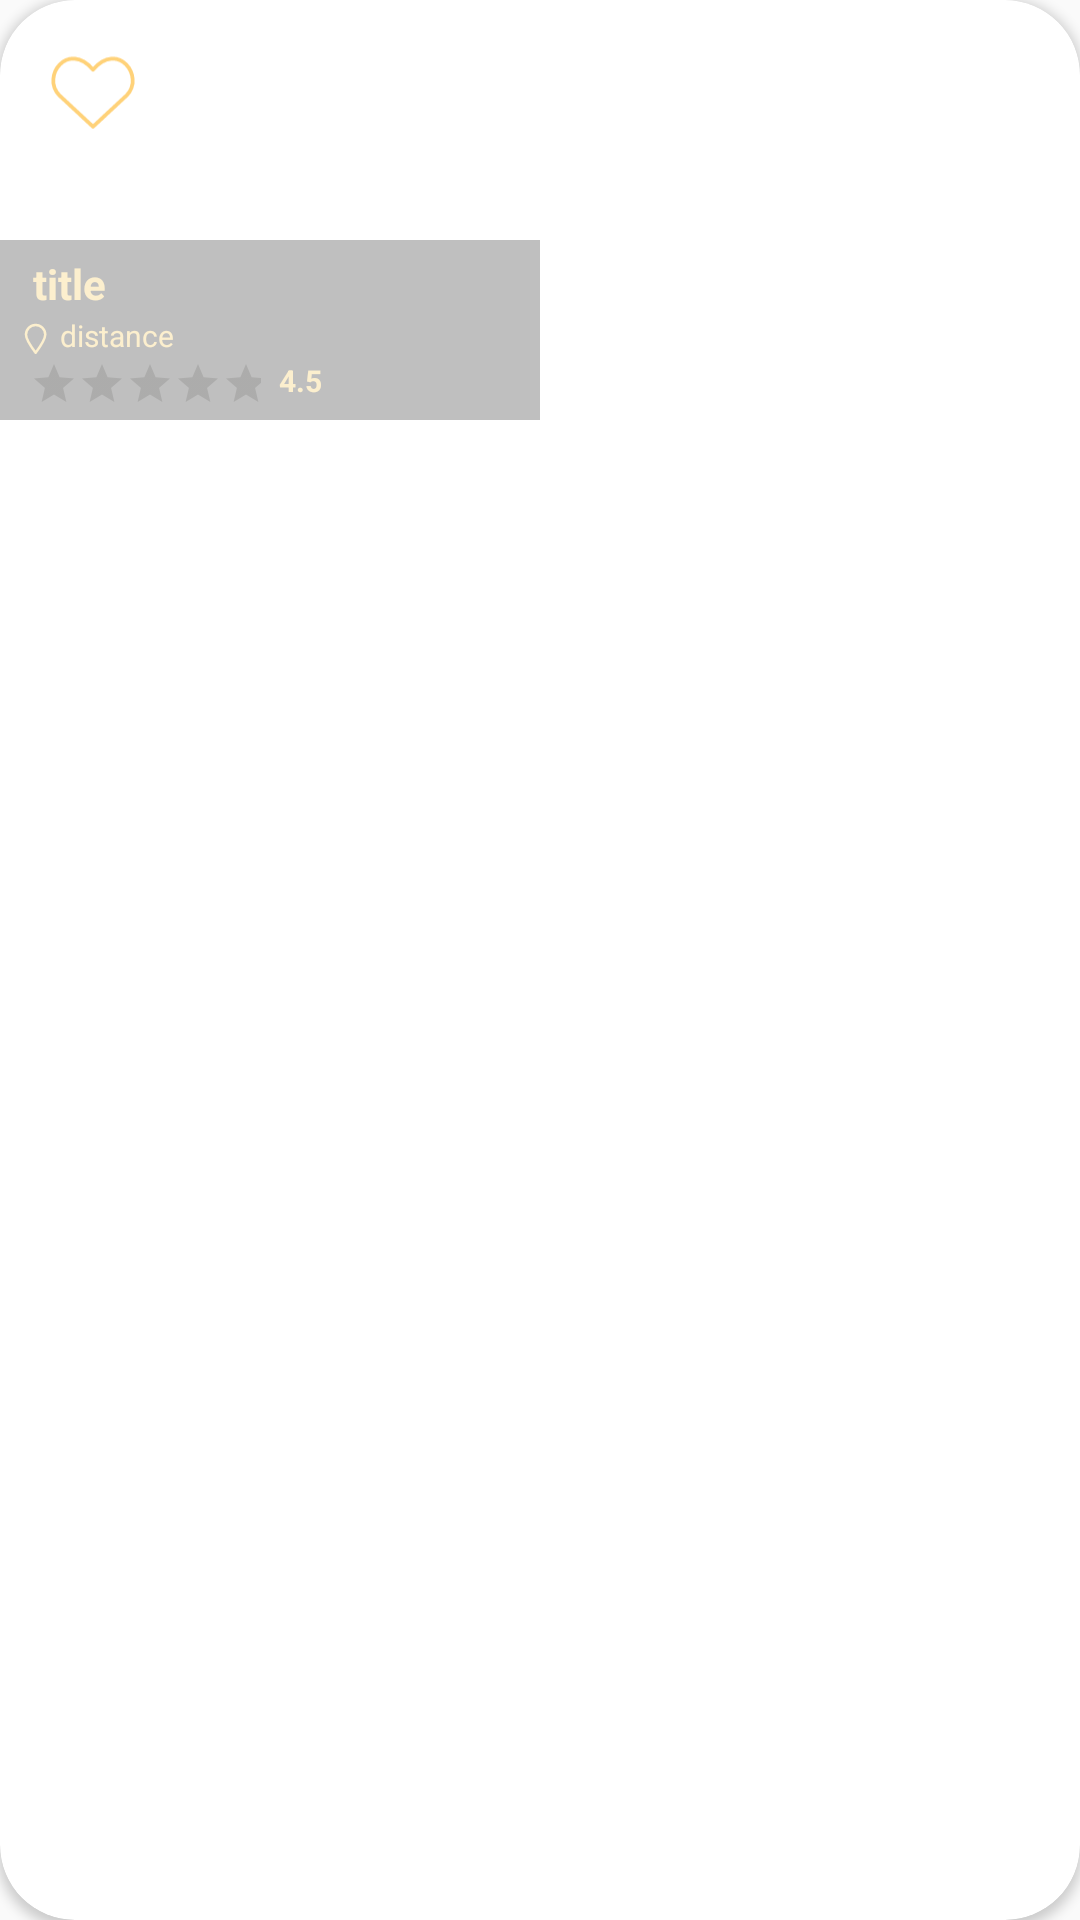

Named icons in this screenshot (1080*1920) and their bounding boxes, (x1, y1, x2, y2):
heart: (51, 56, 135, 129)
location mark: (25, 324, 47, 354)
